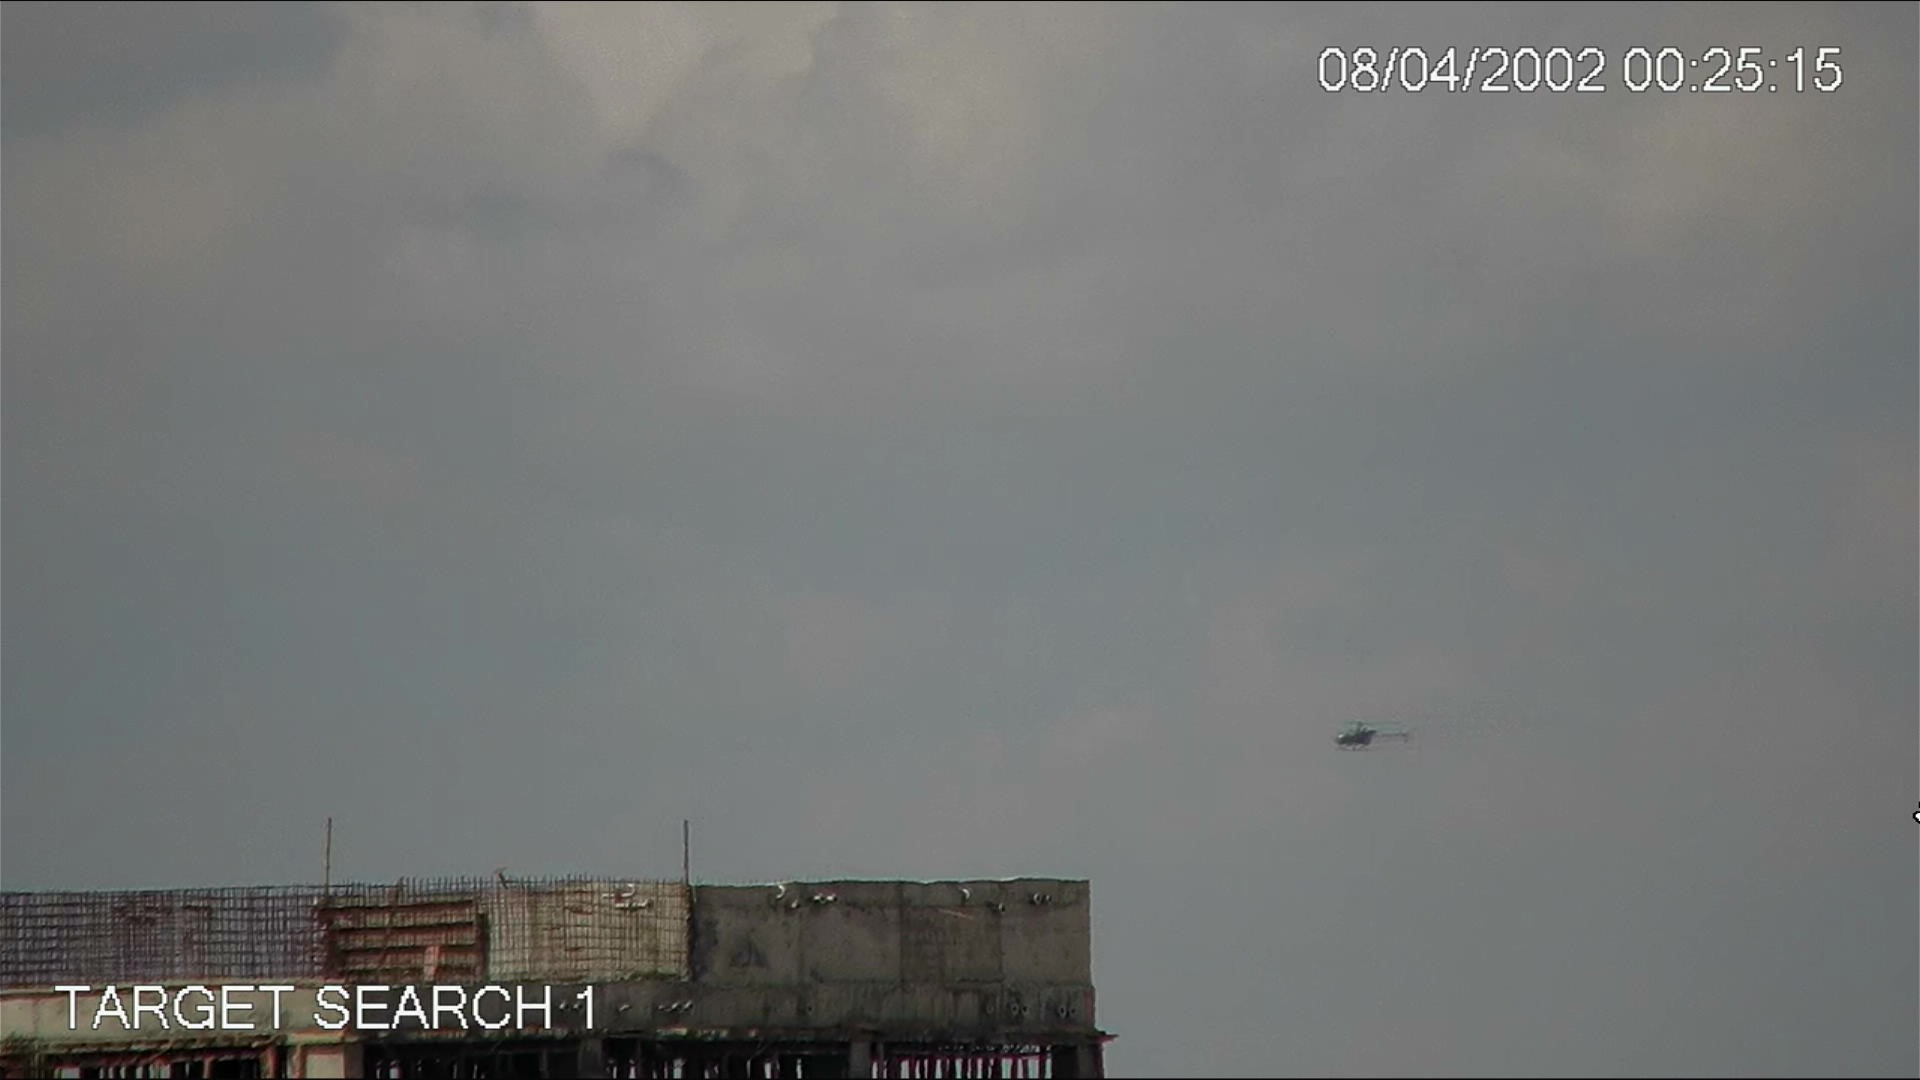SU_30: (1327, 715, 1411, 757)
